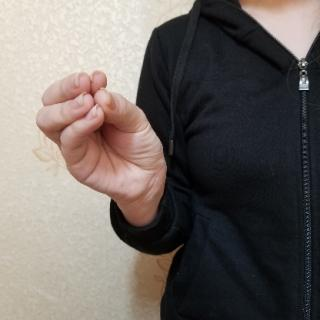HA: (33, 66, 169, 215)
